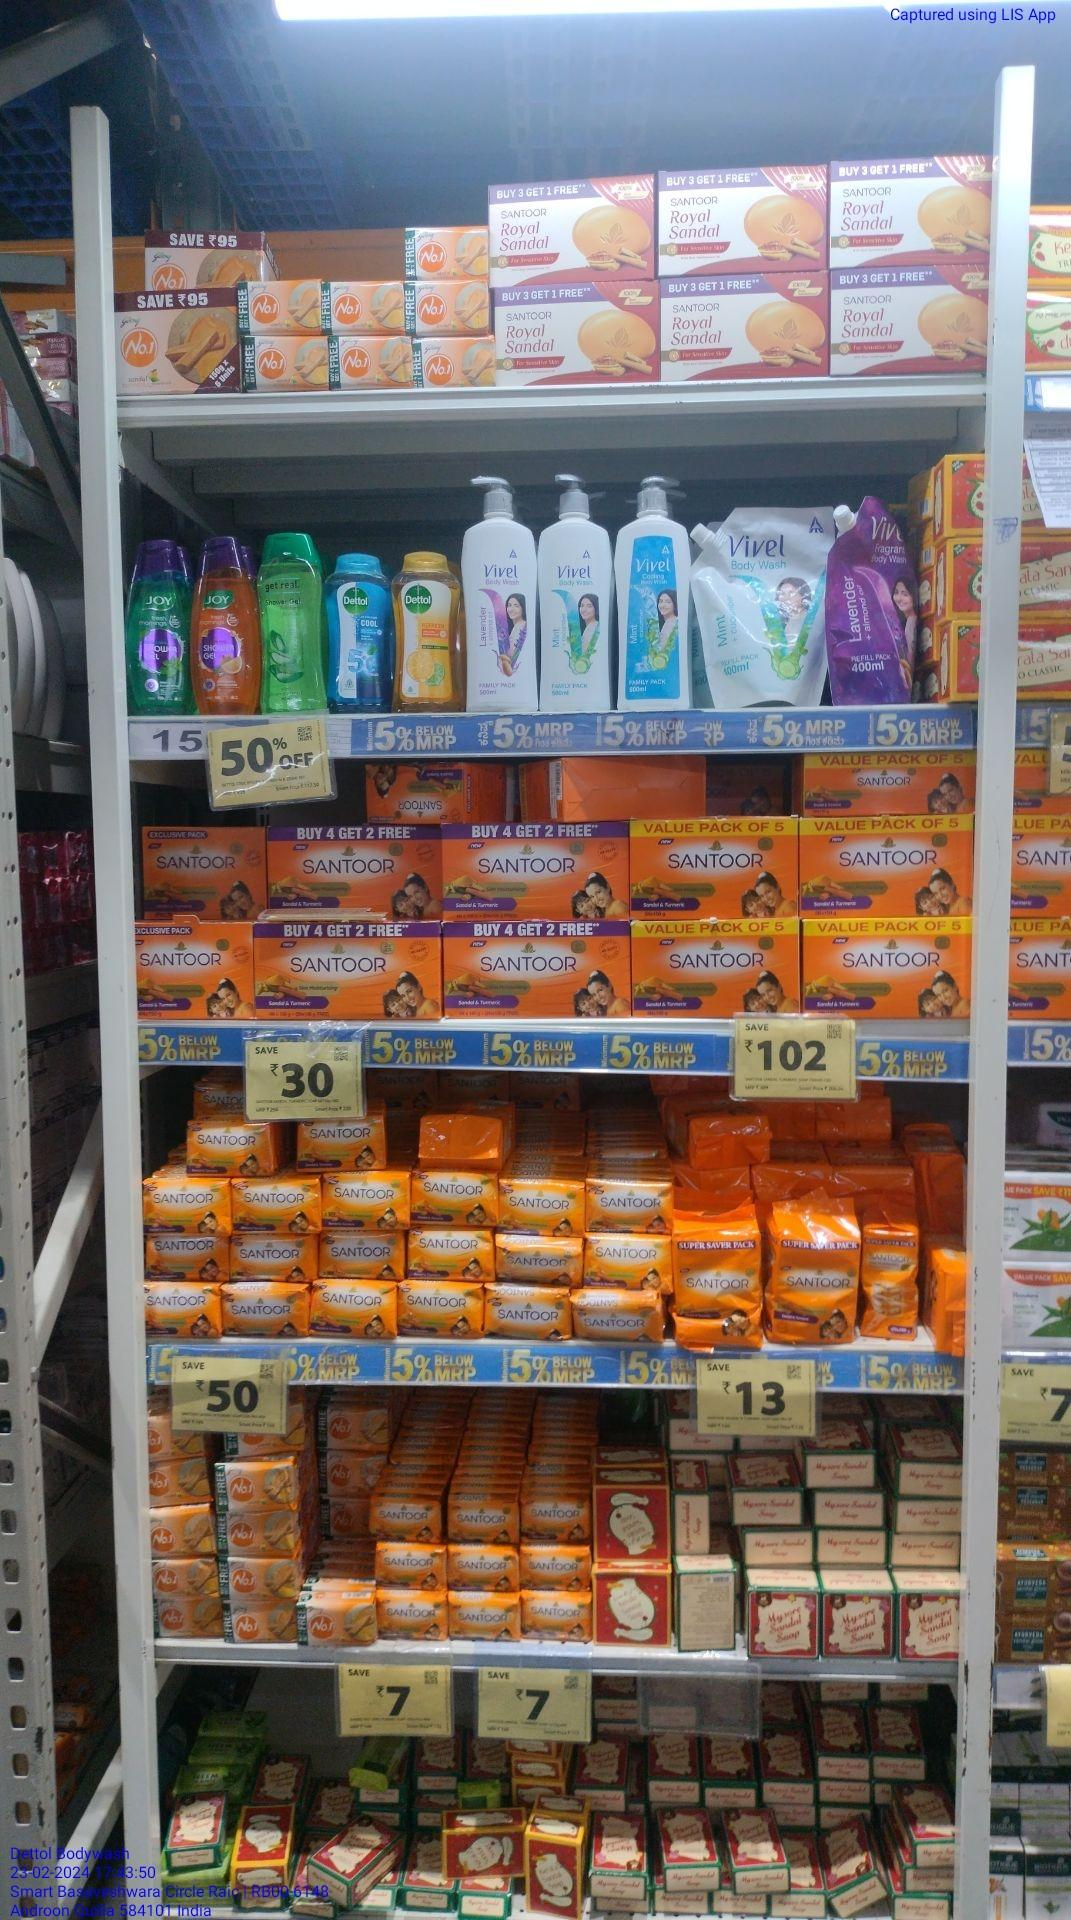Dettol_Bodywash_Cool: (328, 553, 392, 709)
Dettol_Bodywash_Refresh: (394, 554, 458, 709)
Joy_Shower_Gel_Mandarin_and_Lemongrass_250ML: (193, 535, 260, 713)
Joy_Shower_Gel_Mint_and_Eucalyptus_250ML: (131, 545, 185, 713)
